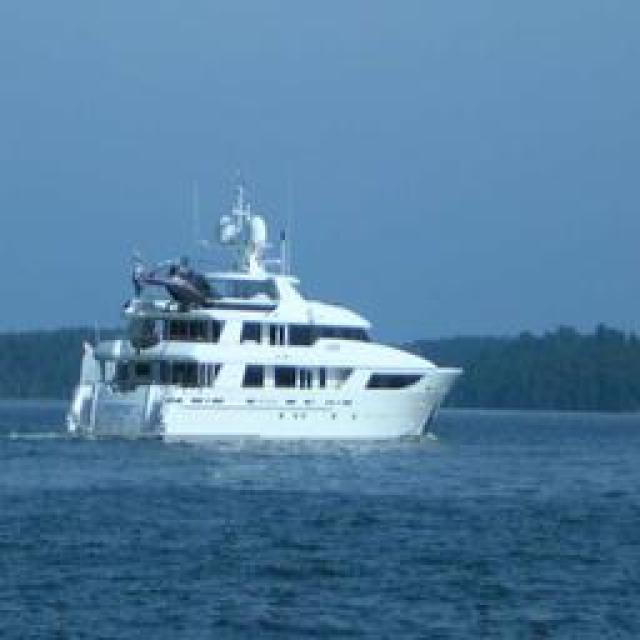ship2: (66, 167, 464, 446)
